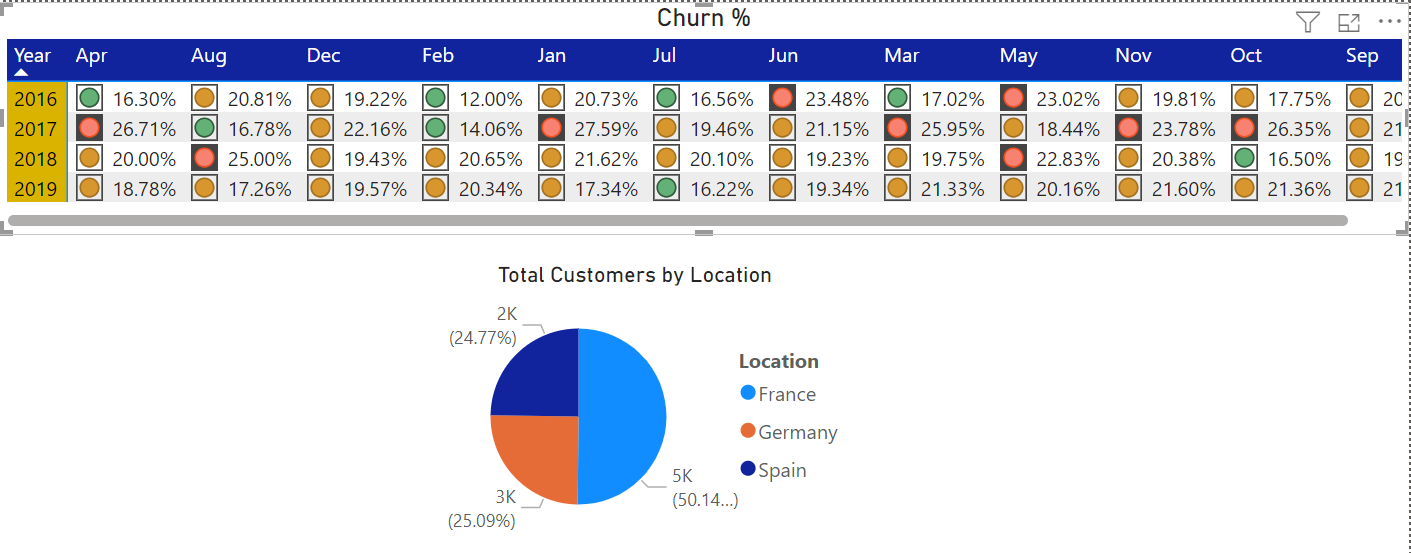

The page's visual inventory and layout, read from the dashboard file:
{"tool":"powerbi","page":{"name":"Churn %","canvas":[940,500],"ordinal":1},"visuals":[{"type":"pivotTable","title":"Churn %","fields":{"Rows":["DateTable.Year"],"Columns":["DateTable.MonthName"],"Values":["Calculations.Churn %"]},"box":[0,0,940,155],"z":0},{"type":"pieChart","title":"Total Customers by Location","fields":{"Category":["Geography.GeographyLocation"],"Y":["Calculations.Total Customers"]},"box":[274,173,300,190],"z":1000}]}

Visuals, with their boxes on the page's 940x500 design canvas (x1, y1, x2, y2). These are canvas units, not pixel positions in the 1411x553 screenshot, which may show the page scaled, cropped or inside an application window:
"Churn %" pivotTable: <box>0,0,940,155</box>
"Total Customers by Location" pieChart: <box>274,173,574,363</box>
